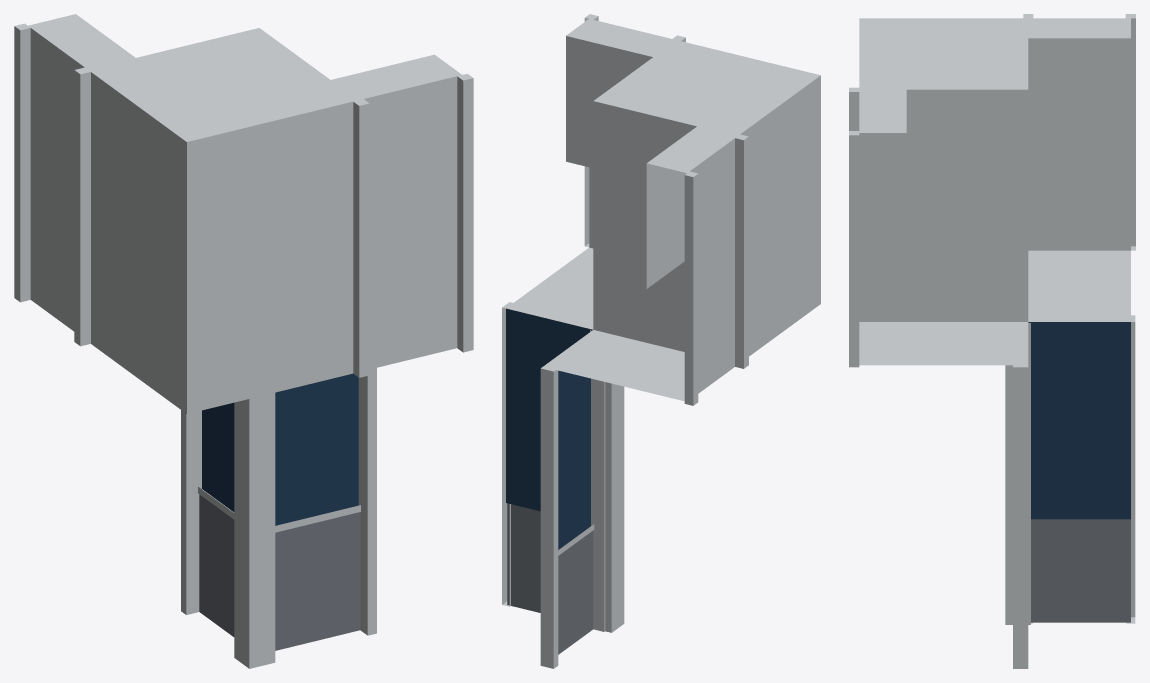
The model's file is top-c1.fbx.
The picture shows the model from 3 angles, left to right: view 1: azimuth 30°, elevation 25°; view 2: azimuth 150°, elevation 25°; view 3: azimuth 270°, elevation 25°; orthographic projection. The views are drawn at different scales.
Parts seen in each view (by area): view 1: a2010/0/top-c1; view 2: a2010/0/top-c1; view 3: a2010/0/top-c1.
Part boxes in pixels (x1,y1,x2,y2): a2010/0/top-c1: [14, 14, 473, 668]; a2010/0/top-c1: [502, 14, 820, 668]; a2010/0/top-c1: [849, 14, 1135, 668].
Size of the model in its own units: 2.24 by 4.6 by 2.24.
